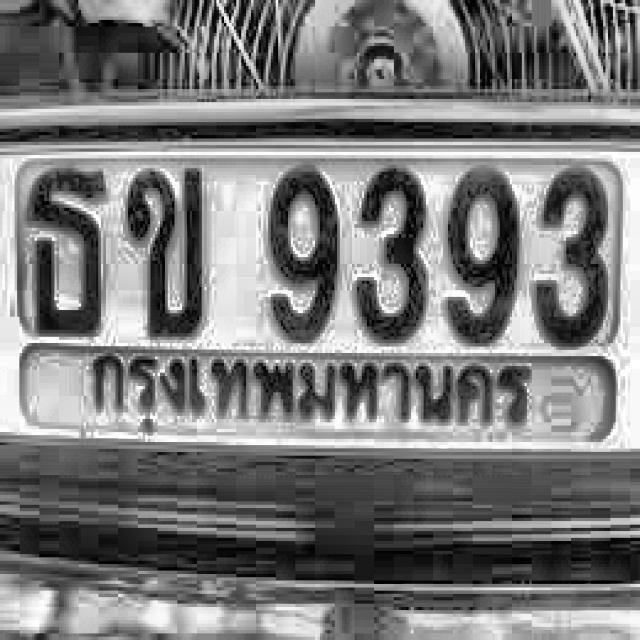license-plate: (0, 140, 640, 461)
